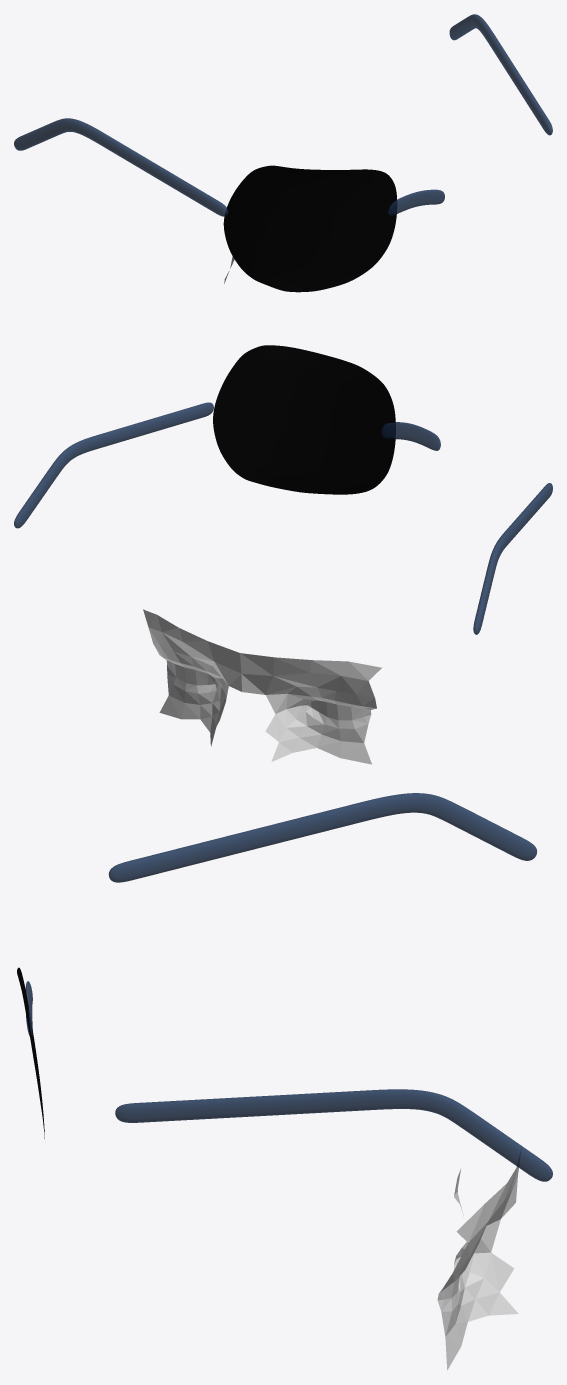
The model's file is glass11.gltf.
3 views of the same model, one above another, from view 1: azimuth 30°, elevation 25°; view 2: azimuth 150°, elevation 25°; view 3: azimuth 270°, elevation 25° (orthographic). The views are drawn at different scales.
Visible parts, largest first — view 1: Glasses_HyperNURBS_Piano1.002, Glasses_HyperNURBS_3_Cubo2.002, Glasses_HyperNURBS_4_Cubo1.002, Glasses_HyperNURBS_2_Cubo.002; view 2: Glasses_HyperNURBS_1_Piano.002, facemesh, Glasses_HyperNURBS_4_Cubo1.002, Glasses_HyperNURBS_3_Cubo2.002, Glasses_HyperNURBS_2_Cubo.002; view 3: Glasses_HyperNURBS_4_Cubo1.002, Glasses_HyperNURBS_3_Cubo2.002, facemesh.
Boxes of the visible parts, x1,y1,x2,y2 form: Glasses_HyperNURBS_Piano1.002: (223, 165, 396, 292); Glasses_HyperNURBS_3_Cubo2.002: (14, 118, 228, 216); Glasses_HyperNURBS_4_Cubo1.002: (449, 14, 552, 135); Glasses_HyperNURBS_2_Cubo.002: (388, 189, 444, 215); Glasses_HyperNURBS_1_Piano.002: (213, 345, 395, 494); facemesh: (143, 609, 381, 764); Glasses_HyperNURBS_4_Cubo1.002: (14, 402, 213, 528); Glasses_HyperNURBS_3_Cubo2.002: (473, 483, 552, 634); Glasses_HyperNURBS_2_Cubo.002: (381, 422, 440, 450); Glasses_HyperNURBS_4_Cubo1.002: (115, 1089, 552, 1181); Glasses_HyperNURBS_3_Cubo2.002: (108, 793, 537, 882); facemesh: (437, 1145, 521, 1369).
Bounding box in the file's own units: 7.53 × 4.1 × 5.28.
